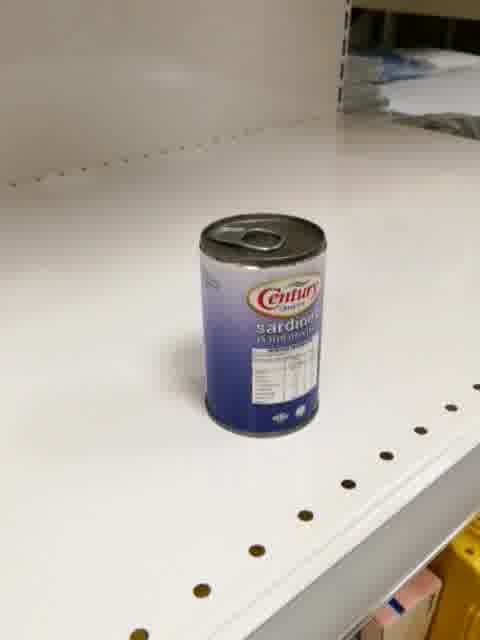sardine: (199, 212, 328, 440)
